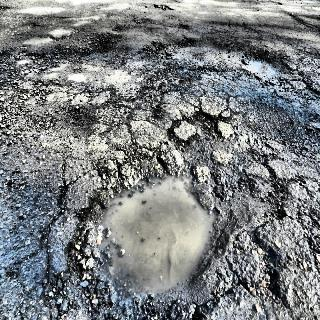alligator-crack: (126, 59, 320, 153)
pothole: (61, 142, 232, 314)
